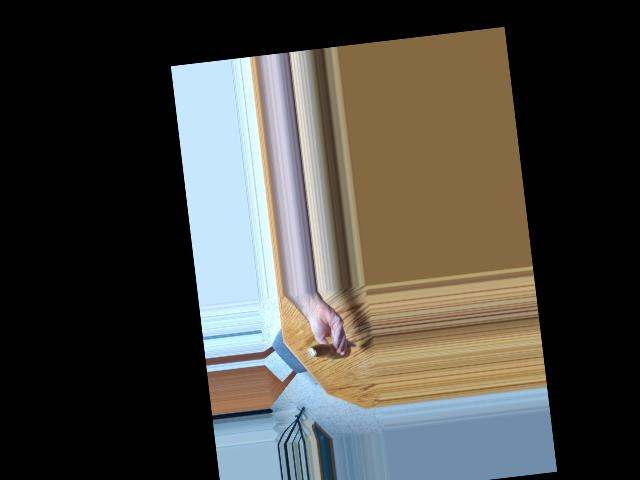sweet_potato: (307, 336, 346, 364)
